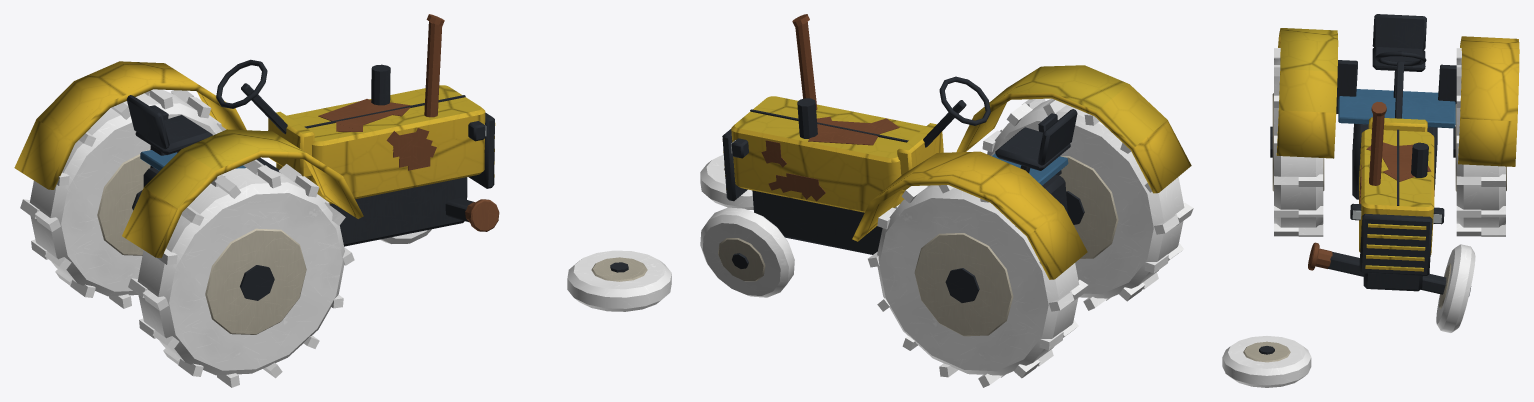
File: tractor_wreck.glb
3 renders of one model, left to right at view 1: azimuth 30°, elevation 25°; view 2: azimuth 150°, elevation 25°; view 3: azimuth 270°, elevation 25°, orthographic. The views are drawn at different scales.
Parts seen in each view (by area): view 1: tractor_wreck; view 2: tractor_wreck; view 3: tractor_wreck.
Part boxes in pixels (x1,y1,x2,y2): tractor_wreck: (14,14,671,387); tractor_wreck: (700,14,1193,387); tractor_wreck: (1222,14,1519,387).
Bounding box in the file's own units: 4.21 × 2.11 × 2.54.
Materials: 10 (10 with a texture image).
